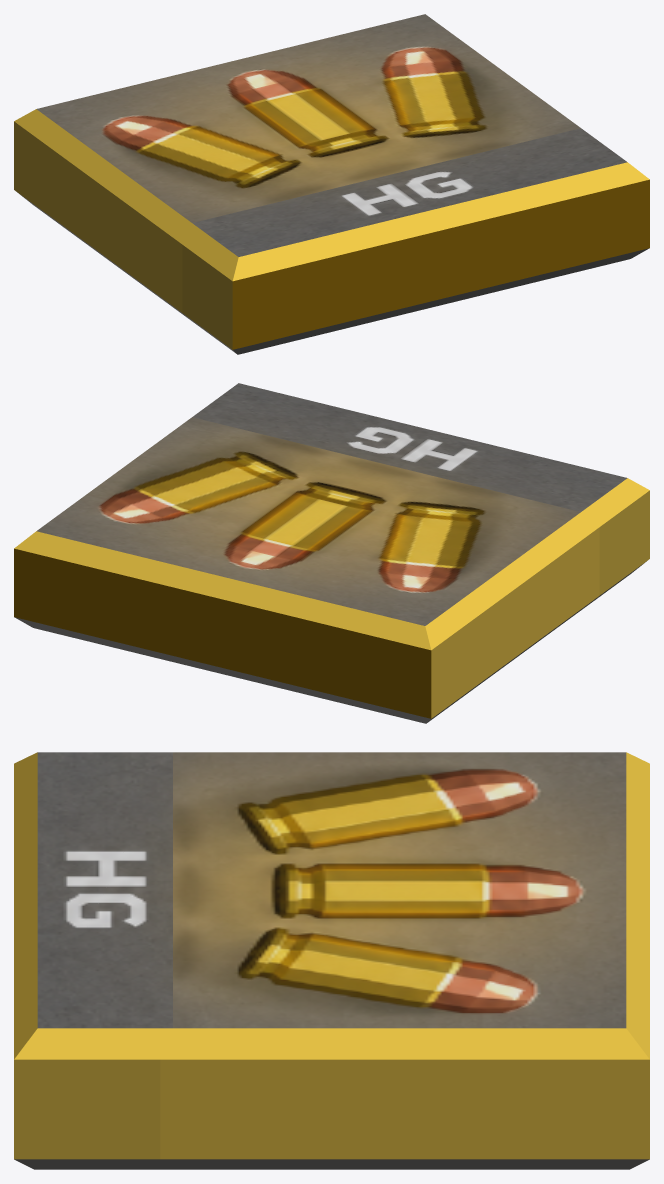
The model's file is handgun_ammo.obj.
3 views of the same model, one above another, from view 1: azimuth 30°, elevation 25°; view 2: azimuth 150°, elevation 25°; view 3: azimuth 270°, elevation 25° (orthographic). The views are drawn at different scales.
Parts seen in each view (by area): view 1: AmmoCarton; view 2: AmmoCarton; view 3: AmmoCarton.
Part boxes in pixels (x1,y1,x2,y2): AmmoCarton: (14,14,649,354); AmmoCarton: (14,383,649,723); AmmoCarton: (14,752,649,1169).
Size of the model in its own units: 1.3 by 0.287 by 1.18.
1 material, 1 textured.
